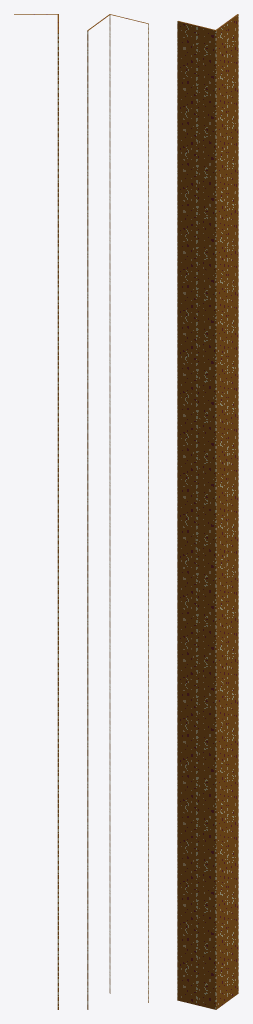
File: SM_WallOuterCorner.glb
3 views of the same model, side by side, from view 1: azimuth 90°, elevation 25°; view 2: azimuth 150°, elevation 25°; view 3: azimuth 330°, elevation 25° (orthographic).
Visible parts, largest first — view 1: SM_WallOuterCorner; view 2: SM_WallOuterCorner; view 3: SM_WallOuterCorner.
Boxes of the visible parts, box(x1,y1,x2,y2) form: SM_WallOuterCorner: box(14, 14, 58, 1009); SM_WallOuterCorner: box(87, 14, 148, 1009); SM_WallOuterCorner: box(177, 14, 238, 1009).
Size of the model in its own units: 2 by 48 by 2.
1 material, 1 textured.
